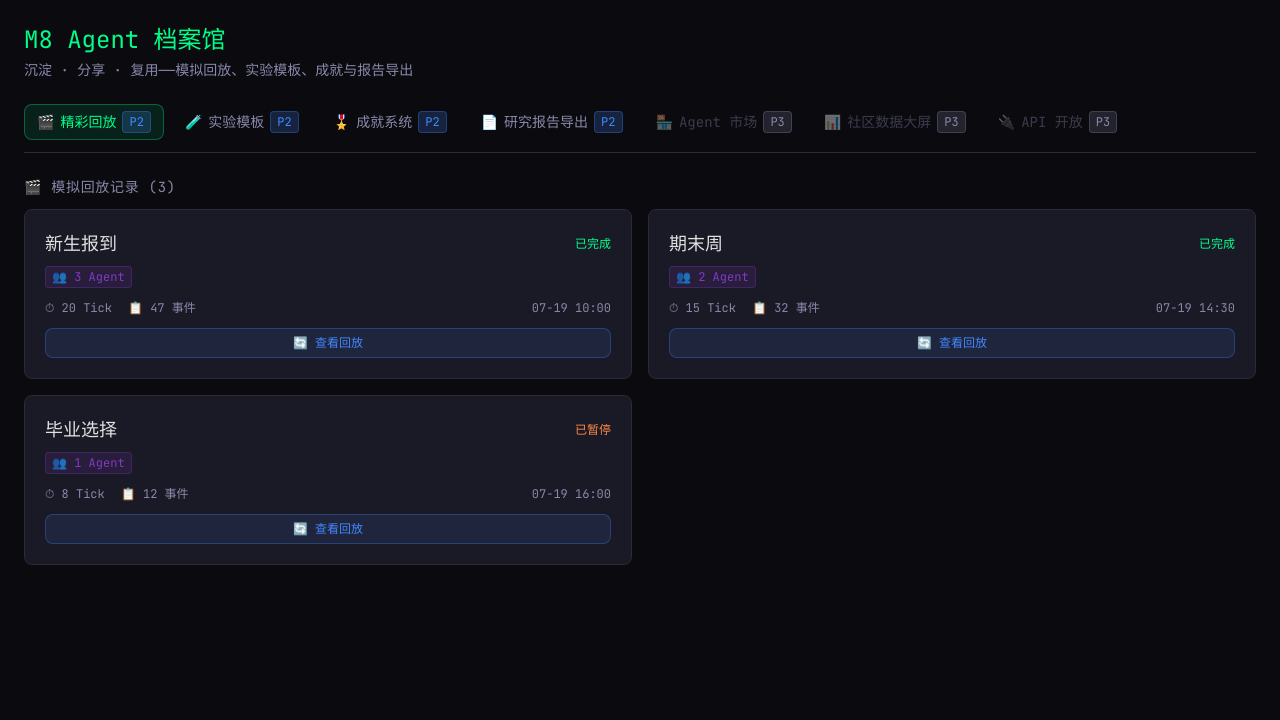
Test: Step 45 Archive — Tab 栏与切换 › switches to templates tab
The width and height of the screenshot is (1280, 720).
Click the text "实验模板". click: (236,122)
box: [208,112,264,132]
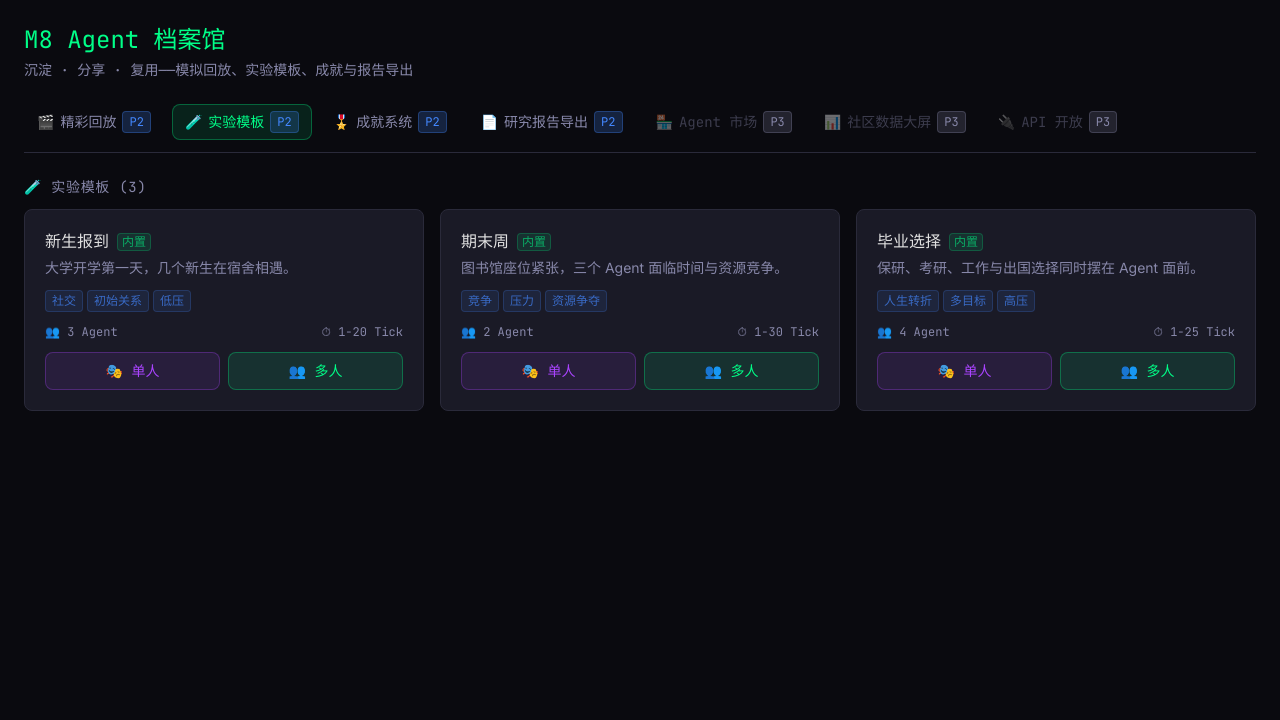
Check: the number of buttons "🎭 单人" is 3, box [45,352,220,390]; [461,352,636,390]; [877,352,1052,390]
Check: the number of buttons "👥 多人" is 3, box [228,352,403,390]; [644,352,819,390]; [1060,352,1235,390]
